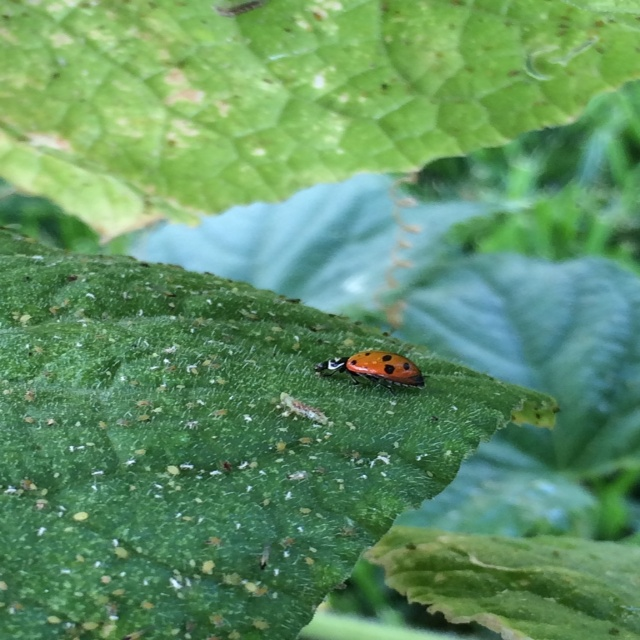Ladybug: (312, 348, 431, 395)
